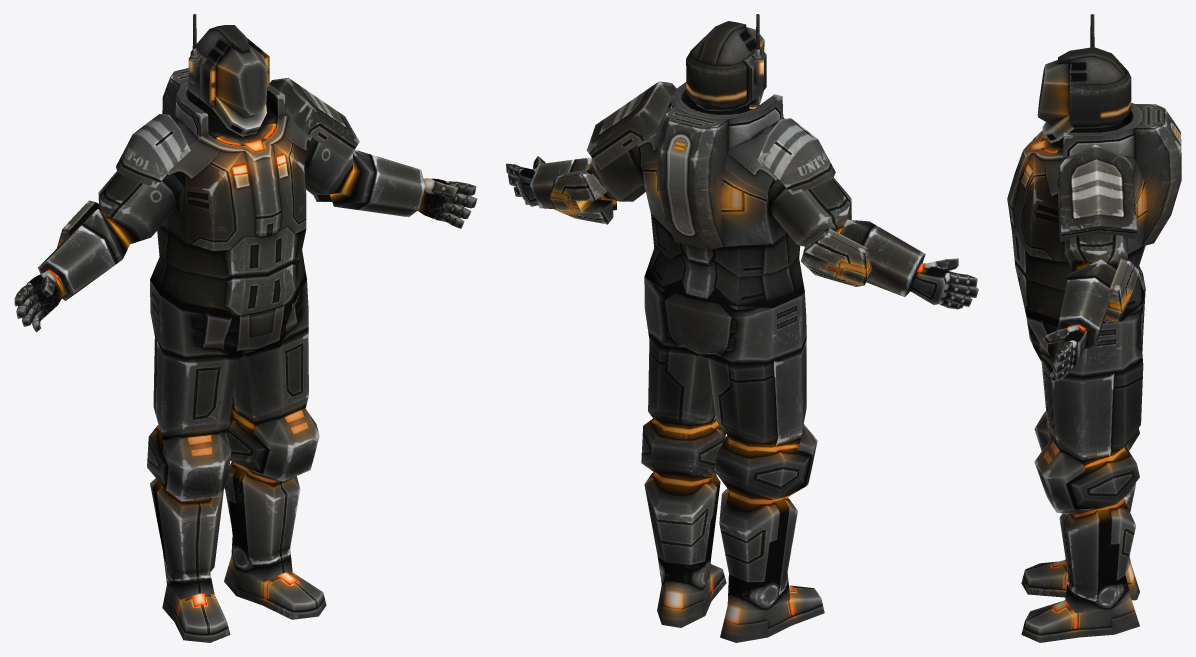
File: Enemy_Soldier.fbx
3 renders of one model, left to right at view 1: azimuth 30°, elevation 25°; view 2: azimuth 150°, elevation 25°; view 3: azimuth 270°, elevation 25°, orthographic. The views are drawn at different scales.
Parts seen in each view (by area): view 1: Enemy_Soldier_Torso, Enemy_Soldier_Legs, Enemy_Soldier_Helmet; view 2: Enemy_Soldier_Torso, Enemy_Soldier_Legs, Enemy_Soldier_Helmet; view 3: Enemy_Soldier_Torso, Enemy_Soldier_Legs, Enemy_Soldier_Helmet.
Boxes of the visible parts, x1,y1,x2,y2 form: Enemy_Soldier_Torso: [14, 68, 477, 332]; Enemy_Soldier_Legs: [147, 280, 326, 642]; Enemy_Soldier_Helmet: [188, 14, 269, 136]; Enemy_Soldier_Torso: [506, 81, 978, 309]; Enemy_Soldier_Legs: [641, 277, 824, 642]; Enemy_Soldier_Helmet: [686, 14, 766, 111]; Enemy_Soldier_Torso: [1007, 103, 1181, 381]; Enemy_Soldier_Legs: [1021, 289, 1145, 642]; Enemy_Soldier_Helmet: [1037, 14, 1131, 142].
Size of the model in its own units: 2.05 by 2.53 by 0.6904.
